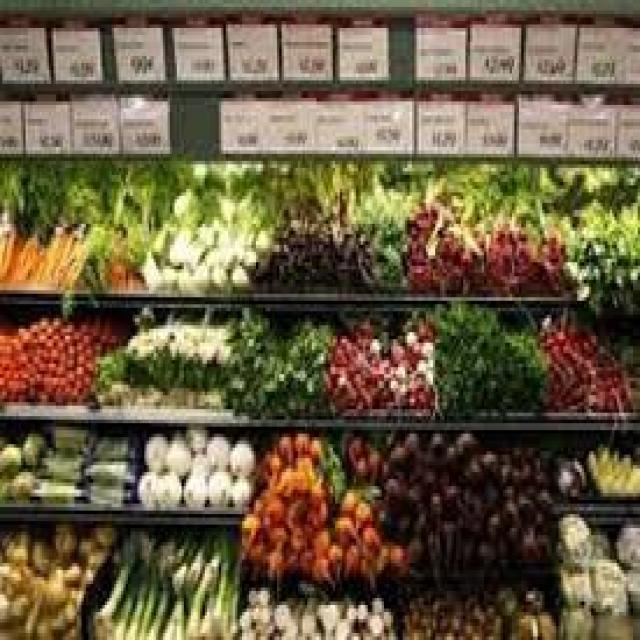organic waste: (561, 161, 638, 308), (224, 304, 328, 409), (435, 304, 542, 406), (488, 157, 566, 287), (407, 164, 489, 287), (331, 311, 435, 406), (249, 210, 370, 283), (542, 318, 638, 409), (0, 311, 91, 399), (58, 161, 107, 308), (263, 157, 372, 220), (358, 157, 408, 290), (123, 300, 235, 356), (37, 157, 86, 280), (100, 158, 147, 284), (93, 339, 228, 381), (14, 157, 60, 280), (91, 528, 135, 637), (400, 591, 500, 637), (93, 374, 230, 406), (135, 161, 188, 234), (144, 538, 179, 636), (123, 528, 154, 637), (0, 154, 26, 273), (584, 441, 638, 496), (184, 552, 219, 636), (216, 521, 240, 637), (584, 552, 624, 608), (161, 549, 186, 637), (91, 308, 135, 350), (554, 556, 591, 605), (186, 178, 217, 234), (552, 448, 586, 497), (198, 532, 214, 636), (321, 437, 345, 500), (554, 510, 589, 552), (240, 185, 274, 224), (81, 458, 128, 486), (170, 528, 191, 588), (463, 483, 487, 535), (594, 608, 638, 636), (84, 476, 128, 504), (558, 605, 596, 637), (377, 468, 405, 511), (228, 430, 254, 476), (37, 448, 74, 479), (198, 157, 233, 189), (26, 479, 79, 500), (612, 521, 638, 563), (205, 465, 233, 504), (256, 482, 282, 524), (140, 430, 165, 472), (86, 430, 128, 455), (9, 465, 35, 504), (293, 458, 319, 497), (235, 507, 261, 546), (49, 524, 77, 560), (21, 588, 42, 636), (423, 479, 447, 521), (507, 525, 533, 563), (40, 570, 65, 609), (203, 430, 228, 469), (163, 430, 186, 472), (205, 252, 230, 290), (184, 532, 205, 577), (151, 468, 177, 504), (18, 594, 40, 636), (140, 248, 160, 294), (454, 426, 479, 462), (28, 535, 51, 574), (0, 528, 28, 560), (484, 507, 505, 549), (317, 598, 342, 633), (312, 553, 335, 591), (421, 434, 449, 465), (366, 437, 386, 479), (507, 605, 533, 637), (428, 525, 442, 584), (463, 444, 484, 483), (256, 444, 279, 479), (263, 538, 282, 580), (344, 434, 363, 476), (228, 252, 247, 294), (442, 483, 463, 521), (407, 518, 426, 560), (16, 426, 38, 462), (0, 560, 28, 588), (177, 266, 205, 294), (193, 210, 221, 238), (230, 161, 258, 189), (621, 563, 638, 609), (533, 602, 556, 636), (275, 462, 298, 496), (342, 535, 359, 581), (207, 234, 231, 266), (528, 500, 552, 532), (482, 448, 502, 486), (228, 468, 249, 504), (584, 525, 608, 556), (181, 469, 205, 500), (533, 479, 552, 518), (44, 423, 79, 444), (533, 451, 554, 486), (386, 507, 412, 535), (216, 189, 235, 227), (375, 532, 391, 577), (387, 434, 408, 468), (463, 535, 491, 560), (135, 468, 154, 504), (72, 532, 96, 560), (184, 423, 205, 455), (307, 518, 331, 546), (405, 472, 421, 514), (0, 437, 19, 472), (335, 511, 356, 542), (228, 224, 249, 255), (531, 524, 549, 560), (158, 256, 177, 290), (444, 525, 461, 563), (519, 580, 542, 608), (491, 584, 514, 612), (389, 535, 407, 570), (56, 556, 81, 581), (302, 493, 324, 521), (0, 584, 16, 622), (256, 217, 272, 255), (405, 427, 424, 458), (284, 521, 305, 549), (270, 594, 286, 630), (326, 542, 344, 574), (286, 493, 303, 525), (186, 448, 205, 476), (500, 496, 519, 524), (521, 441, 538, 472), (289, 426, 307, 454), (354, 496, 372, 524), (512, 476, 533, 500), (424, 469, 452, 486), (58, 598, 77, 623), (279, 612, 298, 637), (279, 549, 298, 574), (363, 521, 377, 553), (72, 563, 96, 581), (242, 235, 258, 262), (296, 612, 316, 633), (88, 525, 112, 542), (63, 577, 79, 602), (33, 612, 51, 633), (170, 238, 188, 259), (338, 490, 356, 510), (249, 538, 265, 560), (307, 430, 321, 455), (419, 332, 433, 357), (193, 255, 207, 280), (237, 619, 256, 637), (256, 619, 275, 637), (368, 609, 382, 633), (330, 609, 344, 633), (338, 595, 352, 619), (298, 591, 314, 612), (300, 546, 312, 574), (188, 231, 202, 255), (277, 430, 289, 455), (505, 444, 517, 469), (361, 556, 372, 581), (84, 546, 102, 560), (244, 584, 256, 605), (172, 217, 189, 231), (254, 605, 270, 619), (370, 591, 382, 609), (0, 476, 12, 493), (400, 322, 412, 339), (356, 598, 365, 619), (410, 339, 419, 357), (237, 605, 247, 619), (258, 584, 268, 595), (382, 608, 388, 622), (349, 630, 358, 636)
